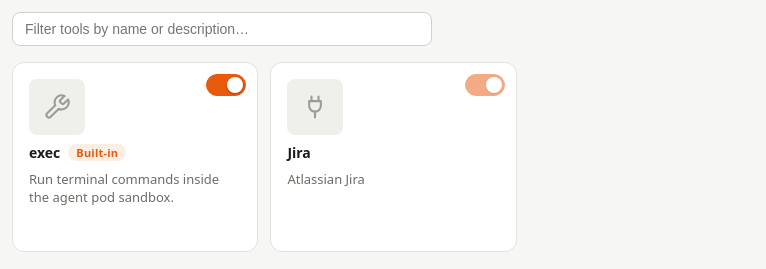
Test: ToolsPanel tile toggle (S-241) › a filter with no matches shows the empty state
This screenshot has width=766, height=269.
In the search field named "Search tools": x=222, y=29 [12,12,432,46], type "zzzz"
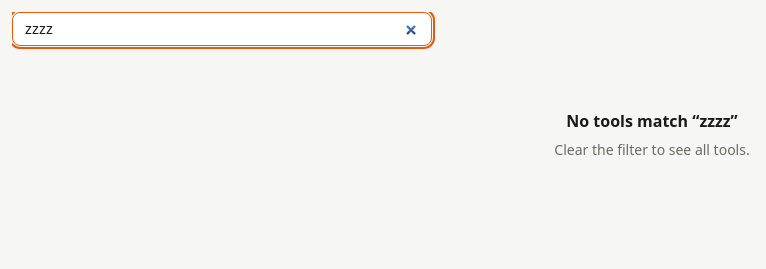
Expected: the text "No tools match “zzzz”" is shown, [566,110,738,132]
